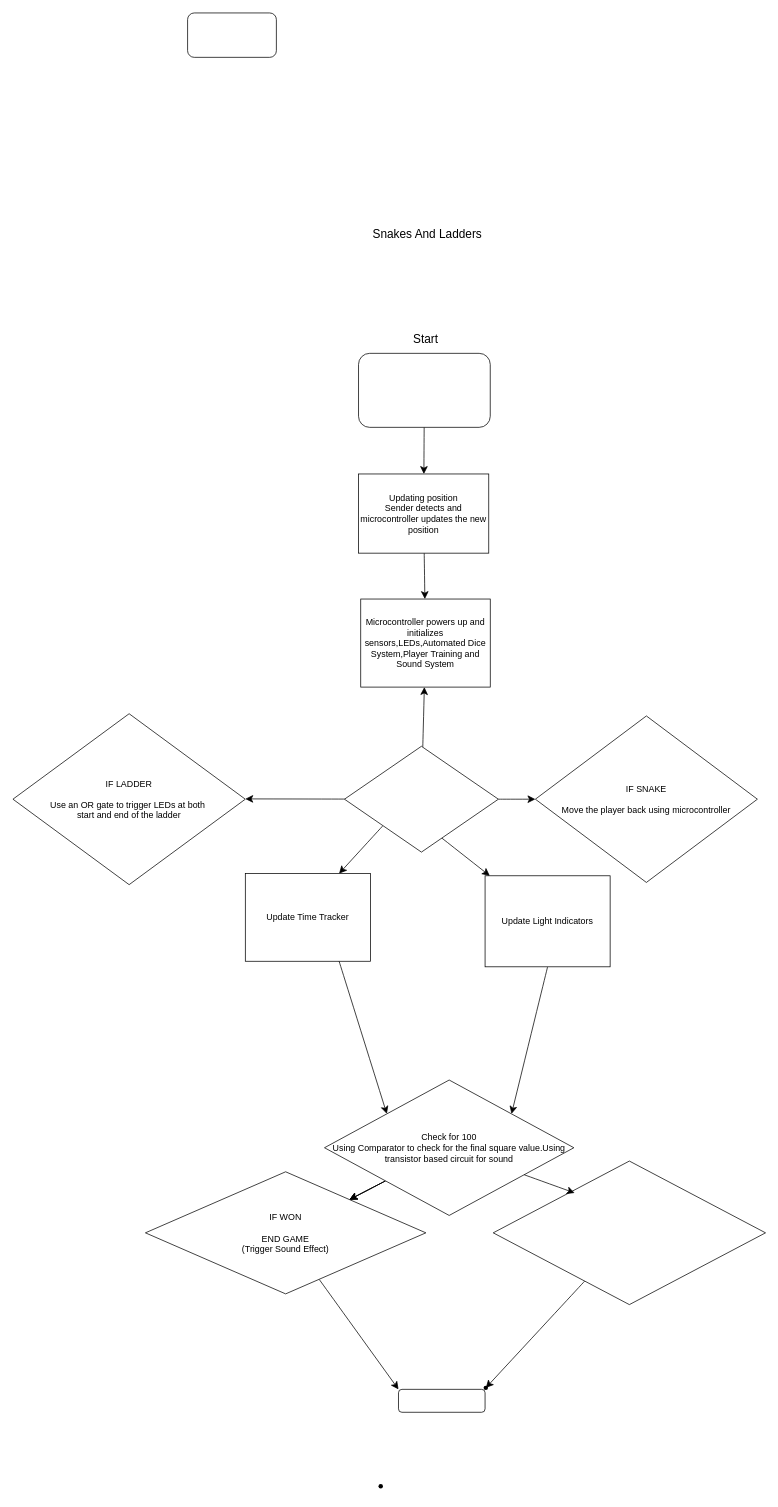
Image size: 778x1507. Some labels were removed from this diagram. The centre of each missing label's shape, as x and y in pixels:
1.Player’s Input Using Counter for Random Number Generation(1-6): pixel 424 390
Check if SNAKE OR LADDER: pixel 421 799
END: pixel 441 1400
IF LOST Next player ‘s rush using microcontroller and resetting the dice system: pixel 629 1232
